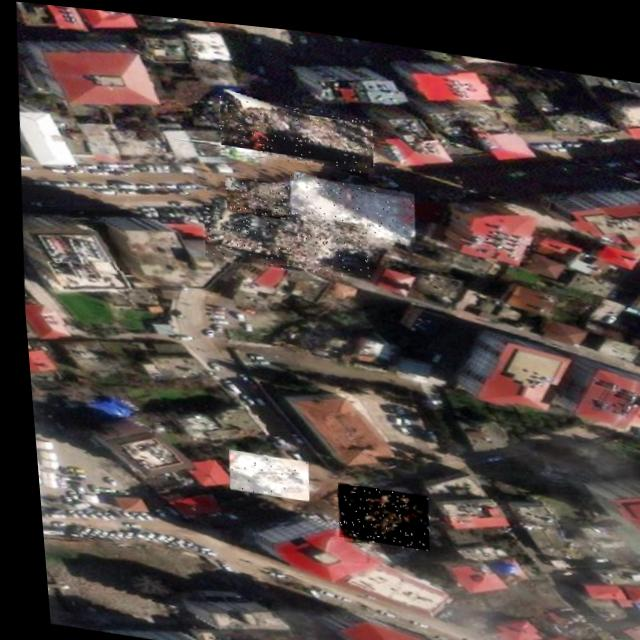Rubble: (215, 89, 376, 166), (285, 167, 414, 234), (197, 197, 305, 268), (327, 475, 424, 543), (299, 209, 369, 273), (219, 444, 303, 495), (221, 170, 289, 214)
